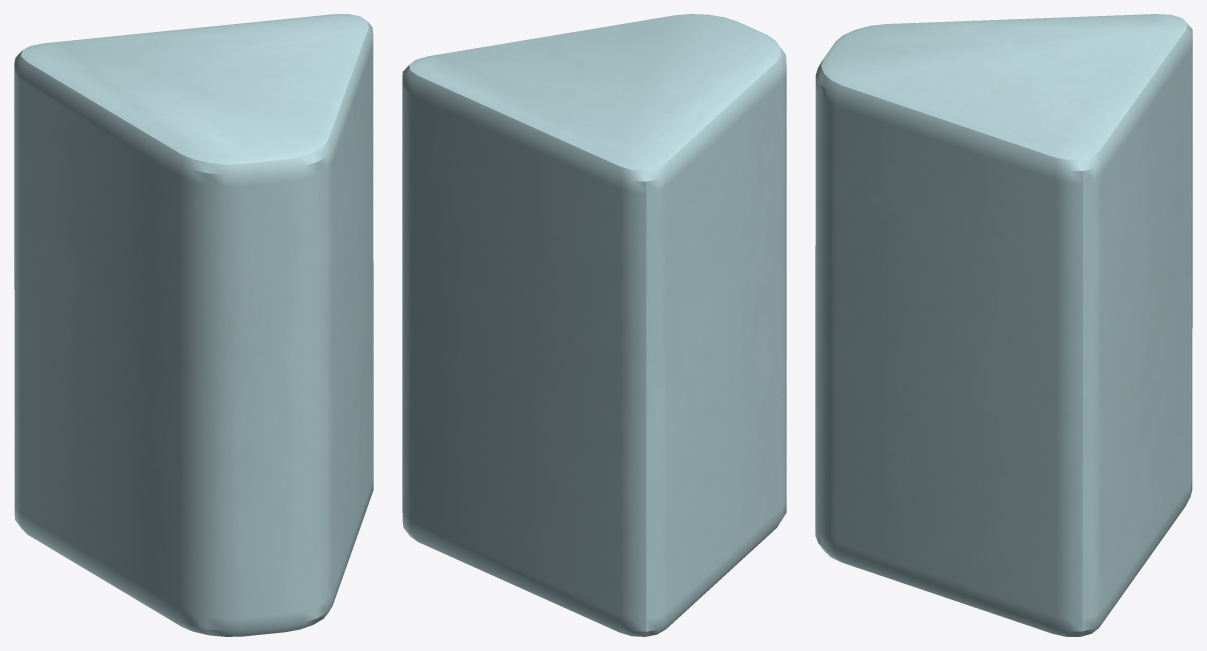
Rendered from studyroom_19.obj.
3 views of the same model, side by side, from view 1: azimuth 30°, elevation 25°; view 2: azimuth 150°, elevation 25°; view 3: azimuth 270°, elevation 25° (orthographic). The views are drawn at different scales.
Size of the model in its own units: 0.021 by 0.0313 by 0.0221.
